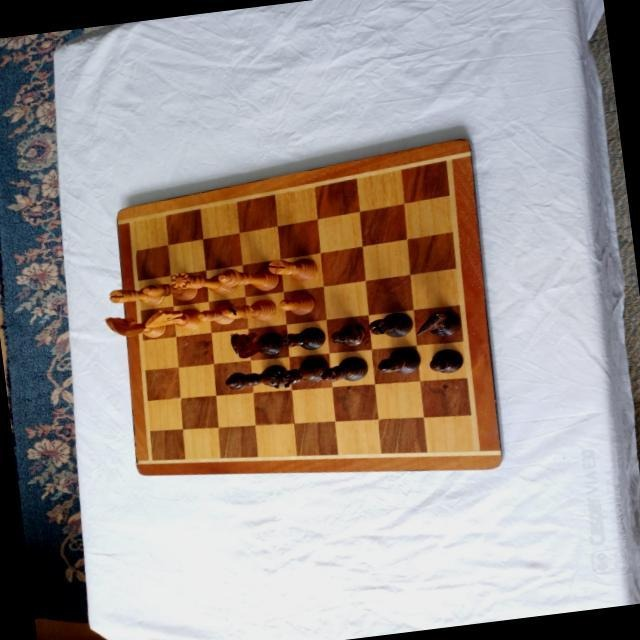black-bishop: (318, 353, 369, 383), (374, 344, 421, 375)
black-king: (222, 362, 287, 392)
black-knight: (228, 327, 283, 359), (411, 307, 461, 338)
black-pawn: (428, 346, 464, 374), (329, 321, 367, 346)
black-queen: (266, 353, 329, 388)
black-rook: (366, 309, 413, 339), (279, 323, 326, 352)
white-bishop: (219, 295, 276, 325), (141, 277, 199, 305)
white-king: (215, 262, 280, 294)
white-knight: (102, 309, 167, 342), (142, 302, 201, 333)
white-pawn: (277, 291, 315, 317), (195, 301, 234, 326)
white-queen: (169, 264, 235, 299)
white-rook: (265, 253, 318, 285), (106, 282, 164, 310)
